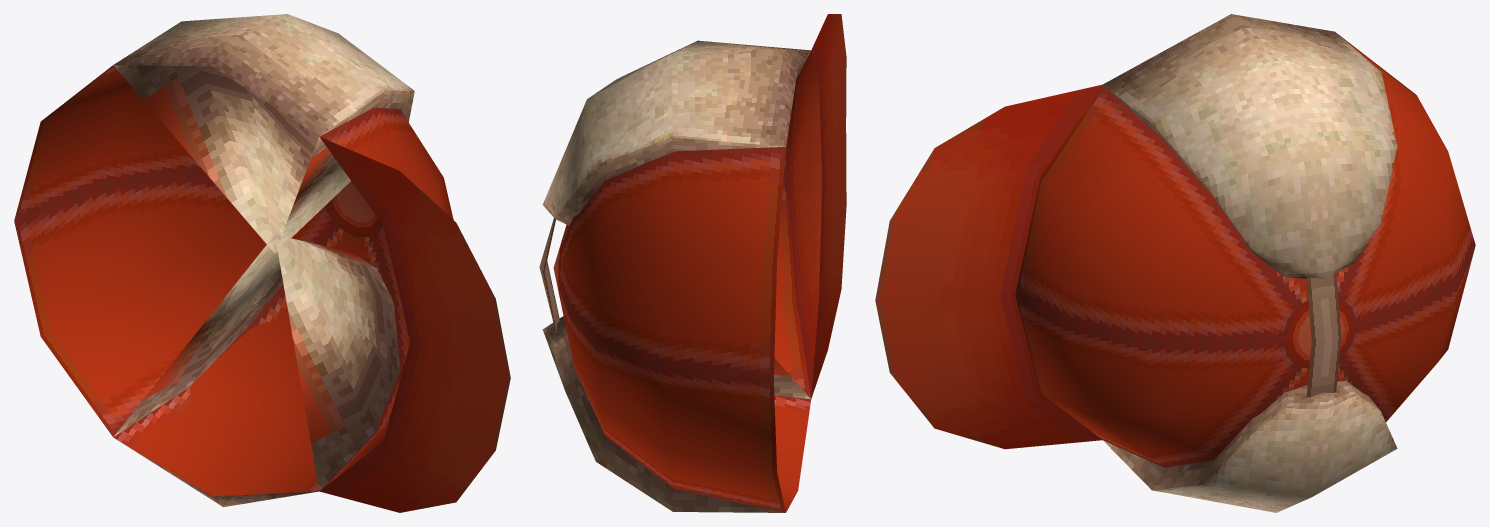
File: cap_cap_hunters.dae
3 views of the same model, side by side, from view 1: azimuth 30°, elevation 25°; view 2: azimuth 150°, elevation 25°; view 3: azimuth 270°, elevation 25° (orthographic).
Parts seen in each view (by area): view 1: cap_cap_hunters; view 2: cap_cap_hunters; view 3: cap_cap_hunters.
Boxes of the visible parts, x1,y1,x2,y2 form: cap_cap_hunters: (14,14,510,512); cap_cap_hunters: (539,14,846,512); cap_cap_hunters: (875,14,1475,512).
Size of the model in its own units: 15.44 by 22.84 by 26.7.
1 material, 1 textured.
